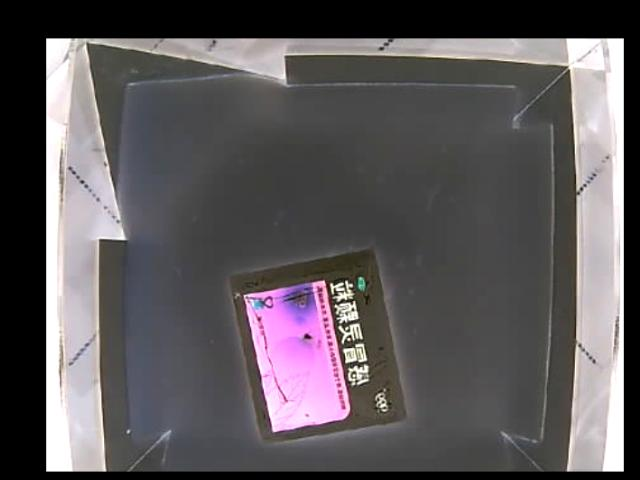Medicine: (227, 243, 409, 444)
